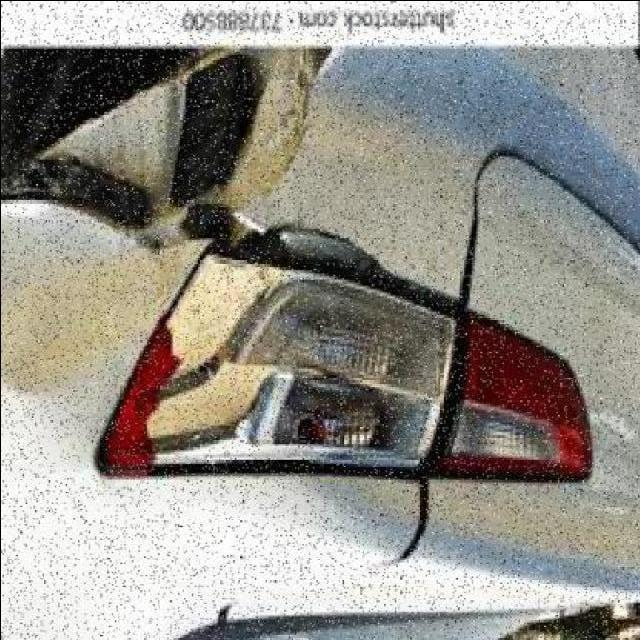Taillight-Damage: (87, 259, 594, 497)
rear-bumper-dent: (2, 43, 640, 332)
